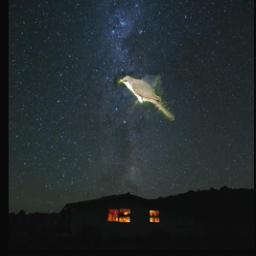Cuckoo: (117, 75, 175, 121)
